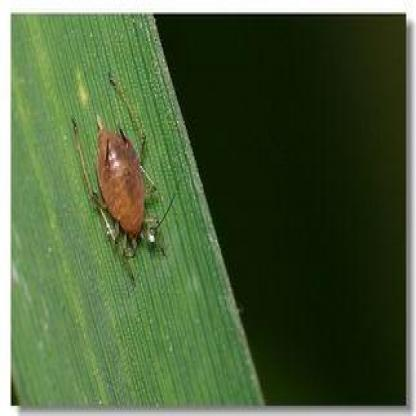aphid: (63, 78, 165, 260)
